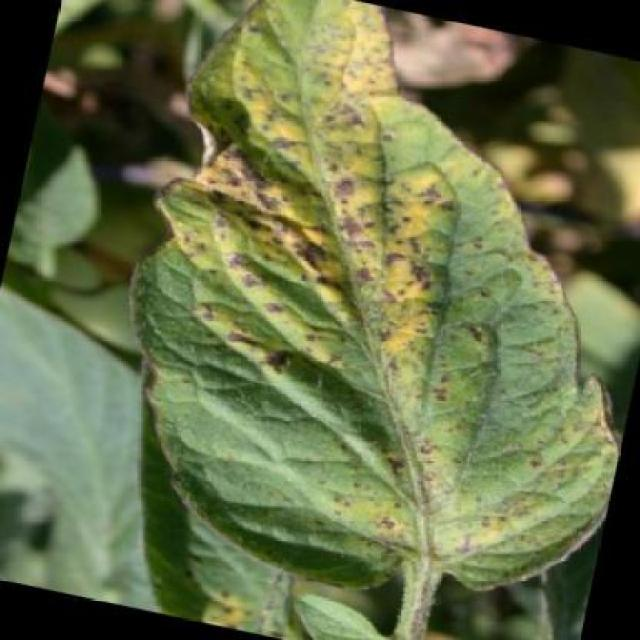Tomato leaf bacterial spot: (76, 1, 639, 639)
